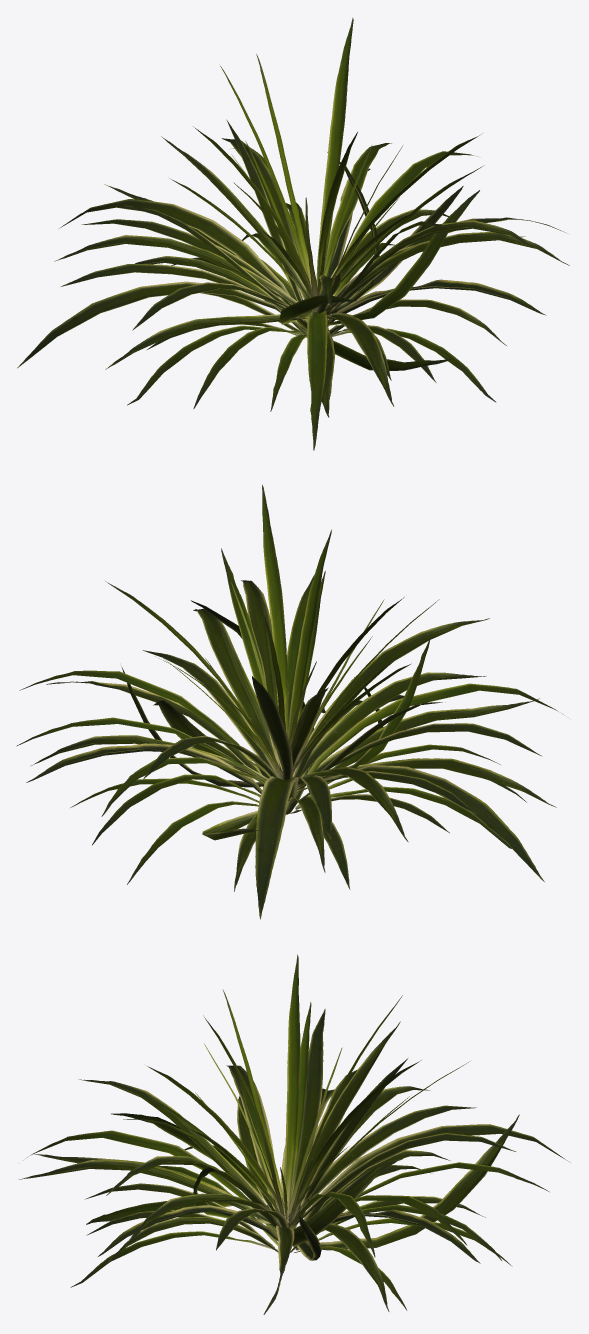
The model's file is ribbon_plant.glb.
3 renders of one model, top to bottom at view 1: azimuth 30°, elevation 25°; view 2: azimuth 150°, elevation 25°; view 3: azimuth 270°, elevation 25°, orthographic. The views are drawn at different scales.
Parts seen in each view (by area): view 1: Megascans ribbon_plant; view 2: Megascans ribbon_plant; view 3: Megascans ribbon_plant.
Boxes of the visible parts, <box> form: Megascans ribbon_plant: <box>17,17,569,450</box>; Megascans ribbon_plant: <box>16,484,563,919</box>; Megascans ribbon_plant: <box>19,954,570,1314</box>.
Bounding box in the file's own units: 0.5928 × 0.2718 × 0.5559.
Materials: 1 (1 with a texture image).
